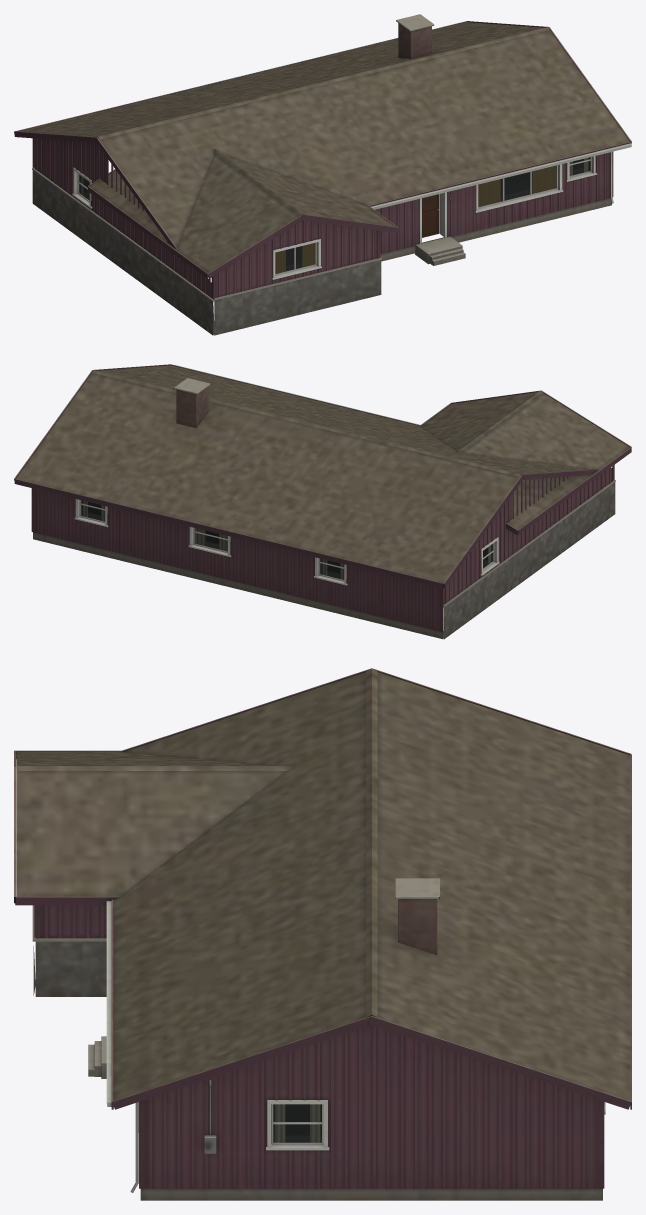
Rendered from ranch_plum-low.glb.
3 renders of one model, top to bottom at view 1: azimuth 30°, elevation 25°; view 2: azimuth 150°, elevation 25°; view 3: azimuth 270°, elevation 25°, orthographic. The views are drawn at different scales.
Parts seen in each view (by area): view 1: ranch_plum; view 2: ranch_plum; view 3: ranch_plum.
Part boxes in pixels (x1,y1,x2,y2): ranch_plum: (14, 14, 631, 335); ranch_plum: (14, 364, 631, 639); ranch_plum: (14, 668, 631, 1200).
Bounding box in the file's own units: 18.98 × 5.87 × 14.16.
2 materials, 2 textured.
